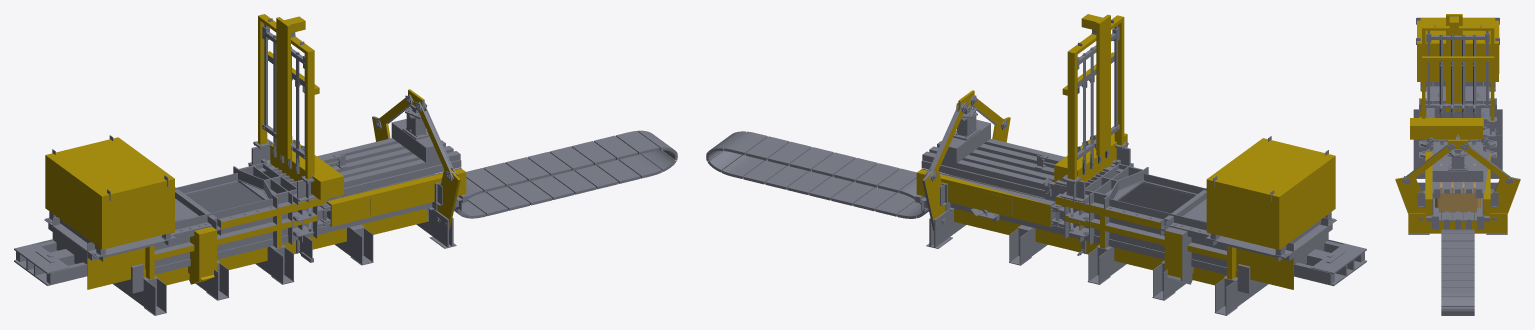
File: GLBAnimacionCompleta_MaquinayFardo_PRESONA.glb
The picture shows the model from 3 angles, left to right: view 1: azimuth 30°, elevation 25°; view 2: azimuth 150°, elevation 25°; view 3: azimuth 270°, elevation 25°; orthographic projection. The views are drawn at different scales.
Visible parts, largest first — view 1: MaquinaImabe, Banda_Animada; view 2: MaquinaImabe, Banda_Animada; view 3: MaquinaImabe, Banda_Animada, Fardo.
Boxes of the visible parts, bbox=[...] form: MaquinaImabe: bbox=[14, 14, 467, 315]; Banda_Animada: bbox=[454, 130, 677, 218]; MaquinaImabe: bbox=[915, 14, 1366, 315]; Banda_Animada: bbox=[706, 131, 928, 218]; MaquinaImabe: bbox=[1395, 14, 1520, 234]; Banda_Animada: bbox=[1441, 229, 1474, 315]; Fardo: bbox=[1435, 163, 1480, 212].
Size of the model in its own units: 12.71 by 4.5 by 3.
